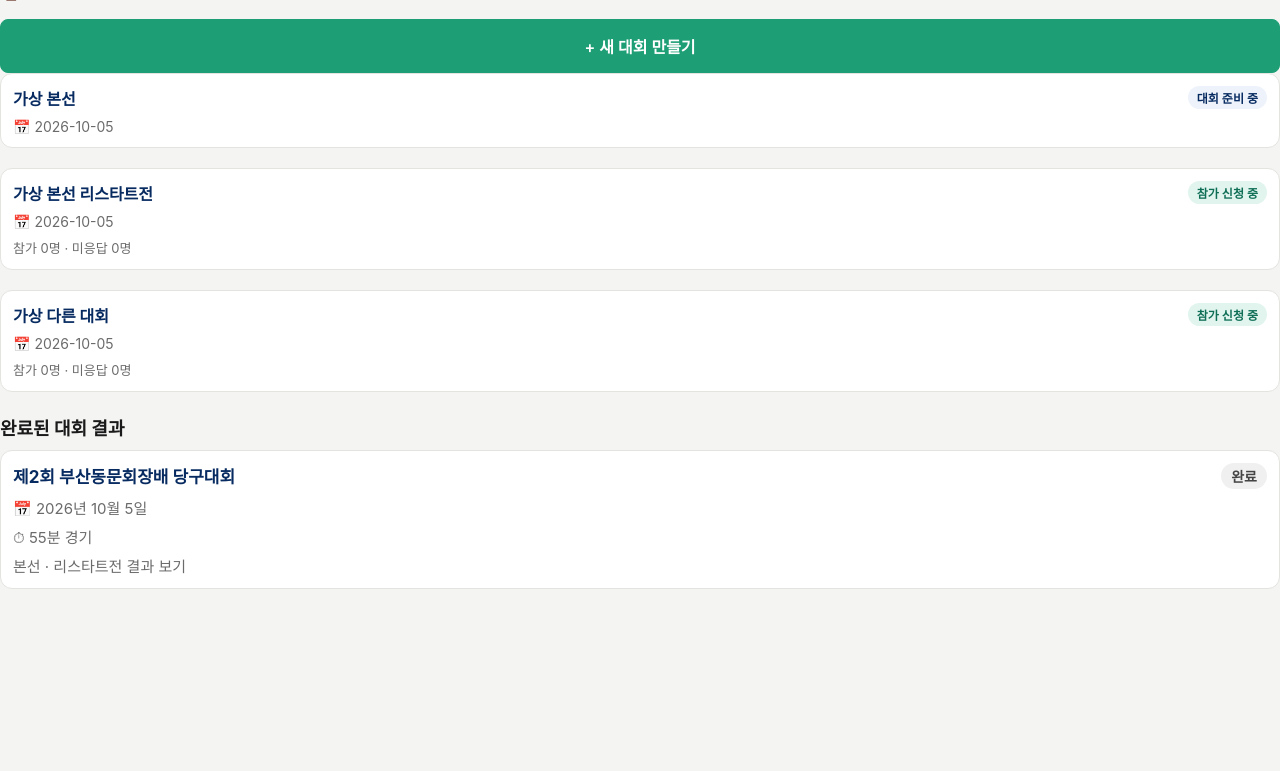
Scenario: 리스타트 대회 자동 연결 (이름 규칙: 본선 이름 + " 리스타트전") › 이름이 정확히 일치하는 리스타트 대회로 자동 연결되고, 대상 대회를 고르는 목록은 없다
Click the text "가상 본선" at [44, 98], box [13, 86, 76, 110]
(page scrolled)
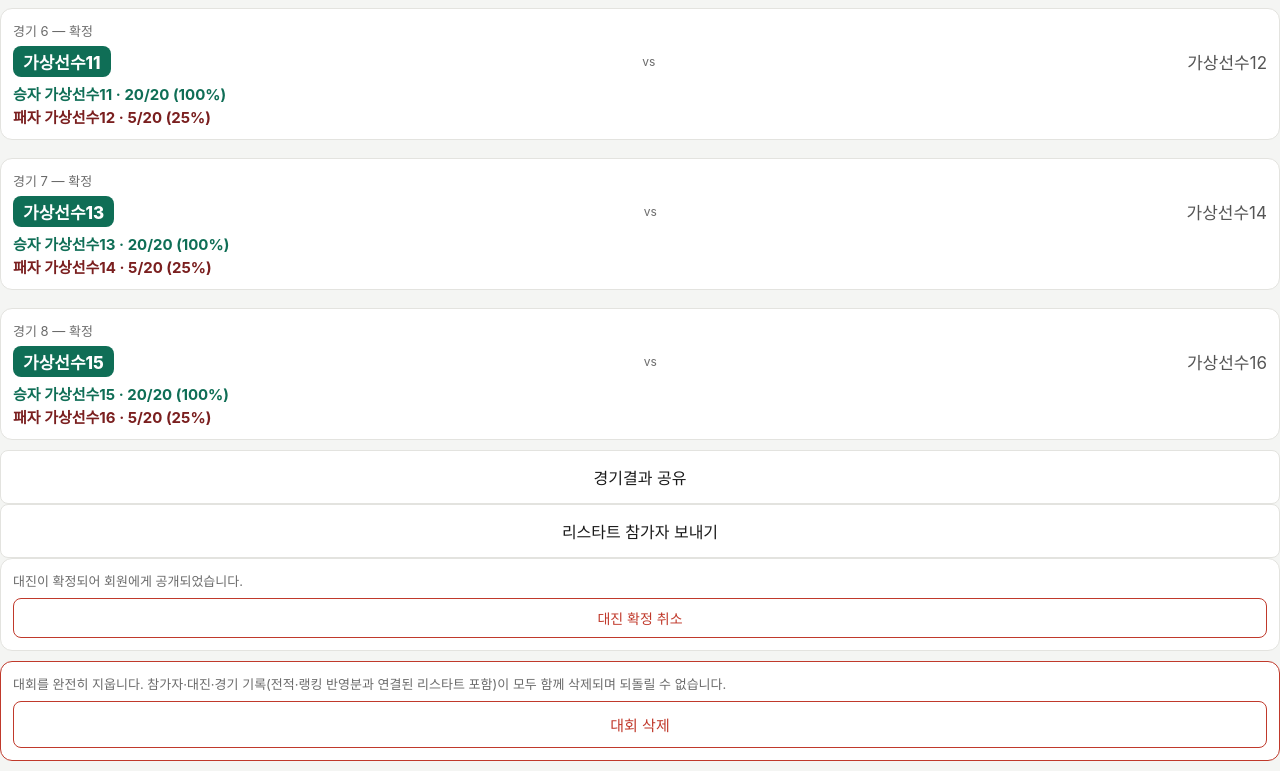
Click the button "리스타트 참가자 보내기" at [640, 531], box [0, 504, 1279, 558]
(page scrolled)
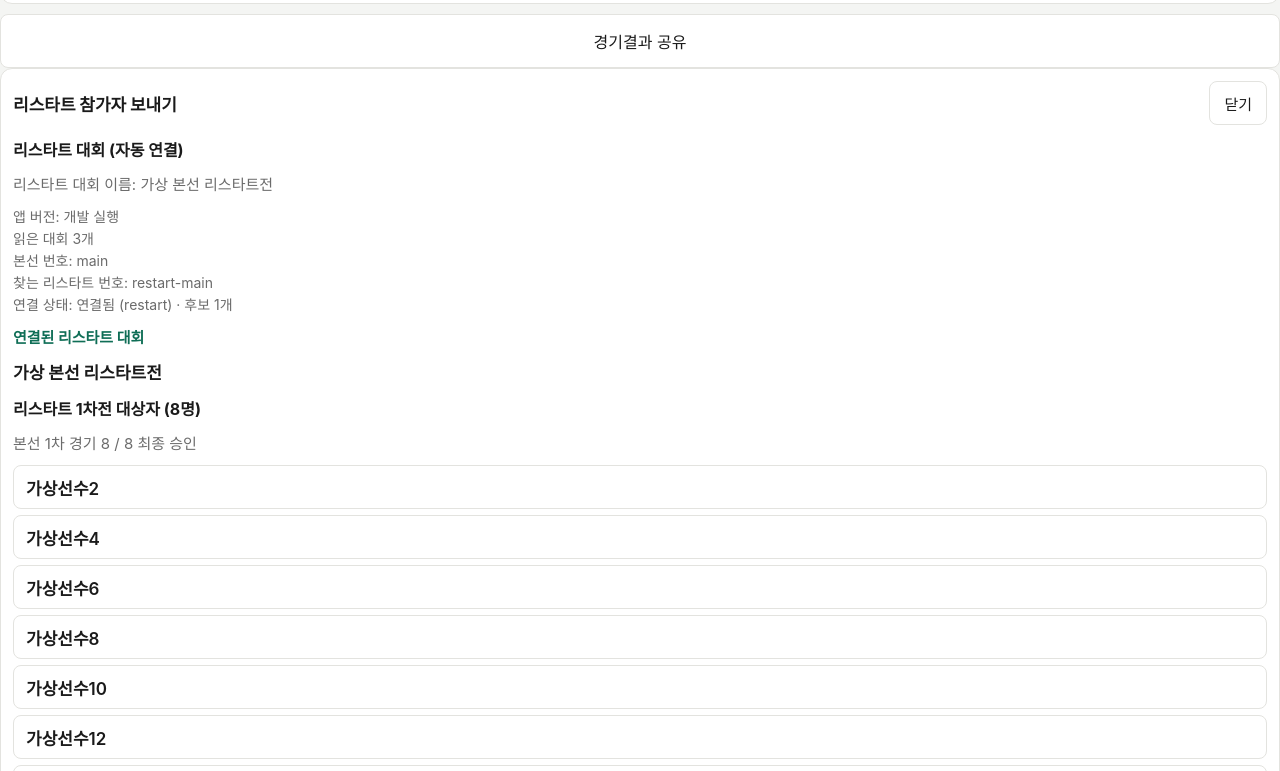
Expected: the button "가상 다른 대회" is not shown
Now the text "리스타트 대회 (자동 연결)" is shown, box [13, 140, 184, 160]
Now the text "가상 본선 리스타트전" is shown, box [13, 363, 162, 383]
